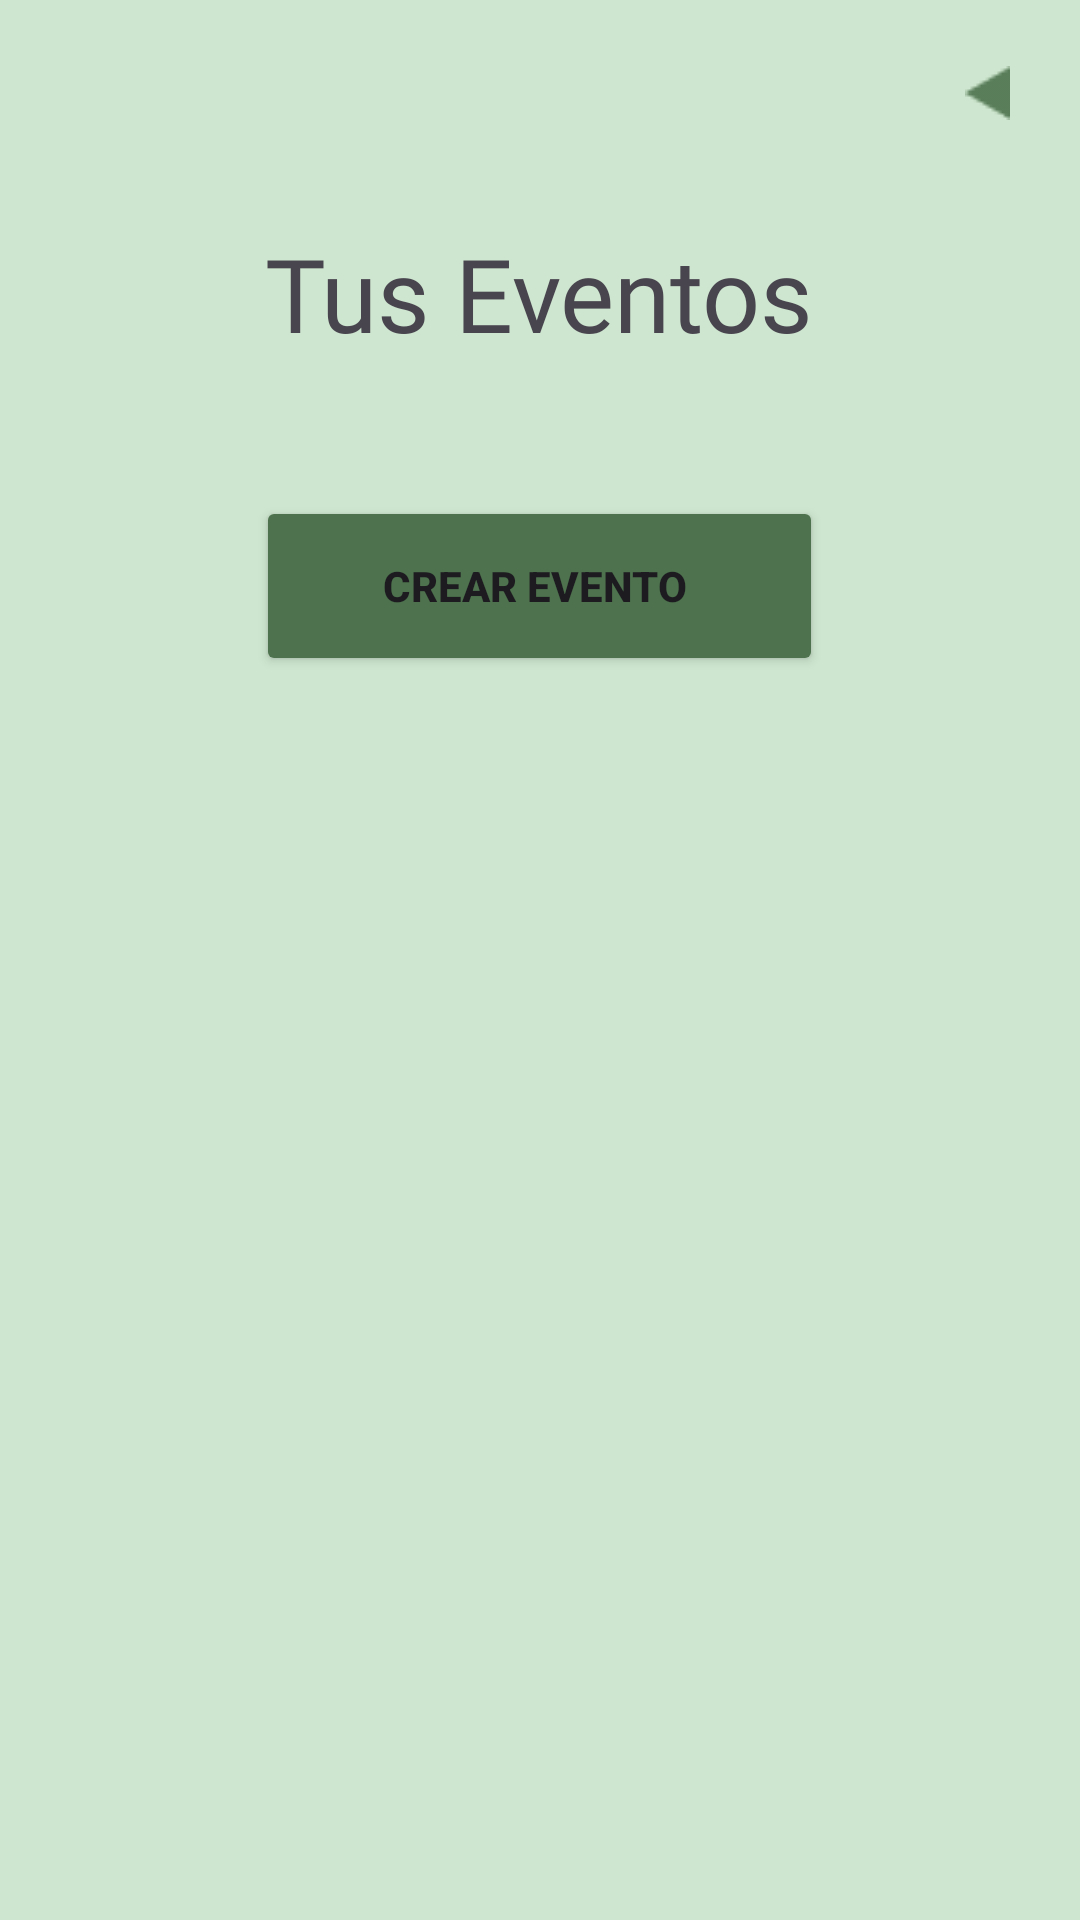

Screen size 1080w x 1920h. Icon name, then its box in pixels as rect(x1, y1, x2, y2):
regresar: rect(965, 66, 1010, 120)
